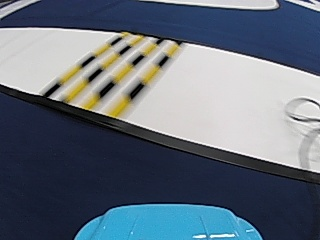bump: (52, 34, 156, 109)
